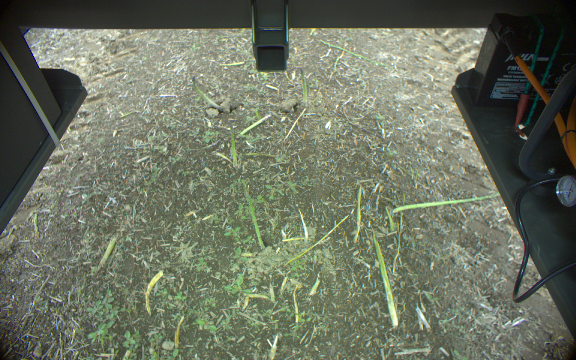aspa: (372, 234, 399, 326), (393, 193, 498, 213), (317, 38, 384, 68), (241, 185, 265, 247), (189, 75, 221, 110), (235, 113, 274, 137), (95, 234, 116, 269), (226, 125, 239, 167), (298, 67, 308, 103)
